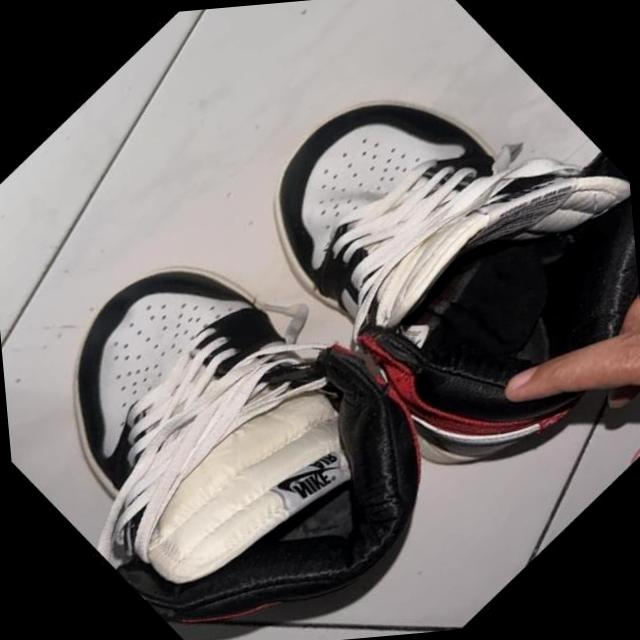nike_fake_jordan: (190, 0, 640, 527), (0, 171, 491, 640)
